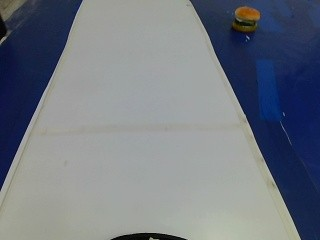burger: (229, 1, 261, 37)
